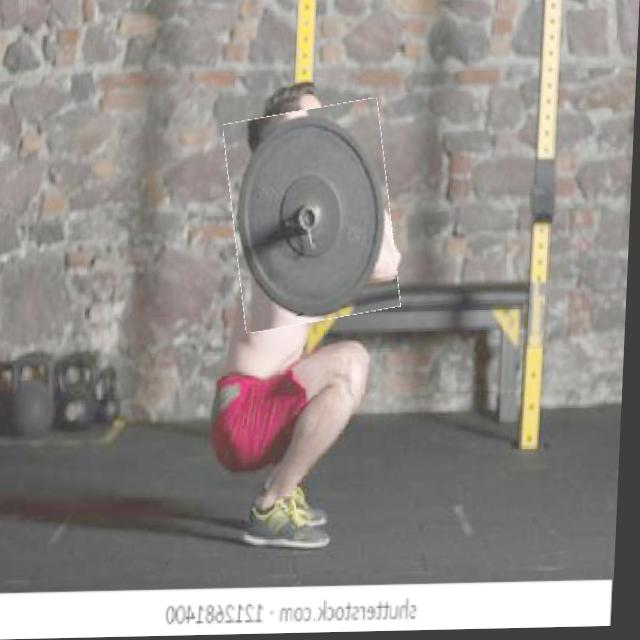barbell: (225, 106, 404, 331)
